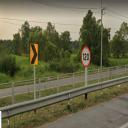speed_limit_120: (80, 45, 91, 68)
